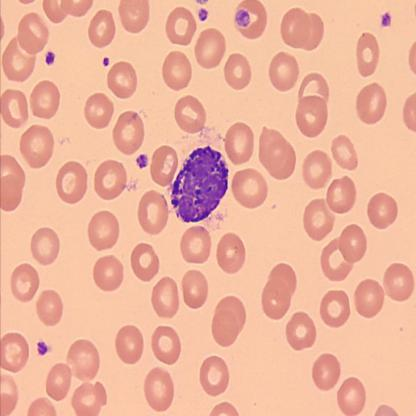Basophil: (170, 144, 230, 223)
